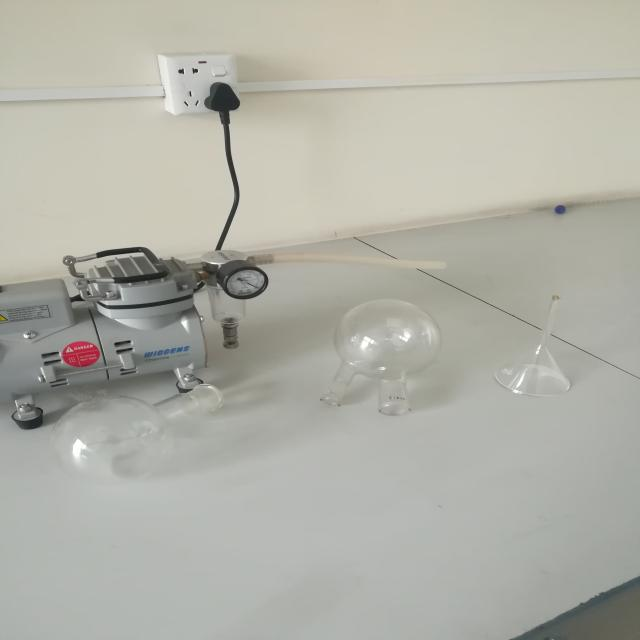Funnel: (480, 276, 602, 421)
Round_Bottom_Flask_Borosilicate_Glass_1_Neck: (12, 338, 282, 502)
Round_Bottom_Flask_Borosilicate_Glass_2_Neck: (306, 273, 445, 444)
